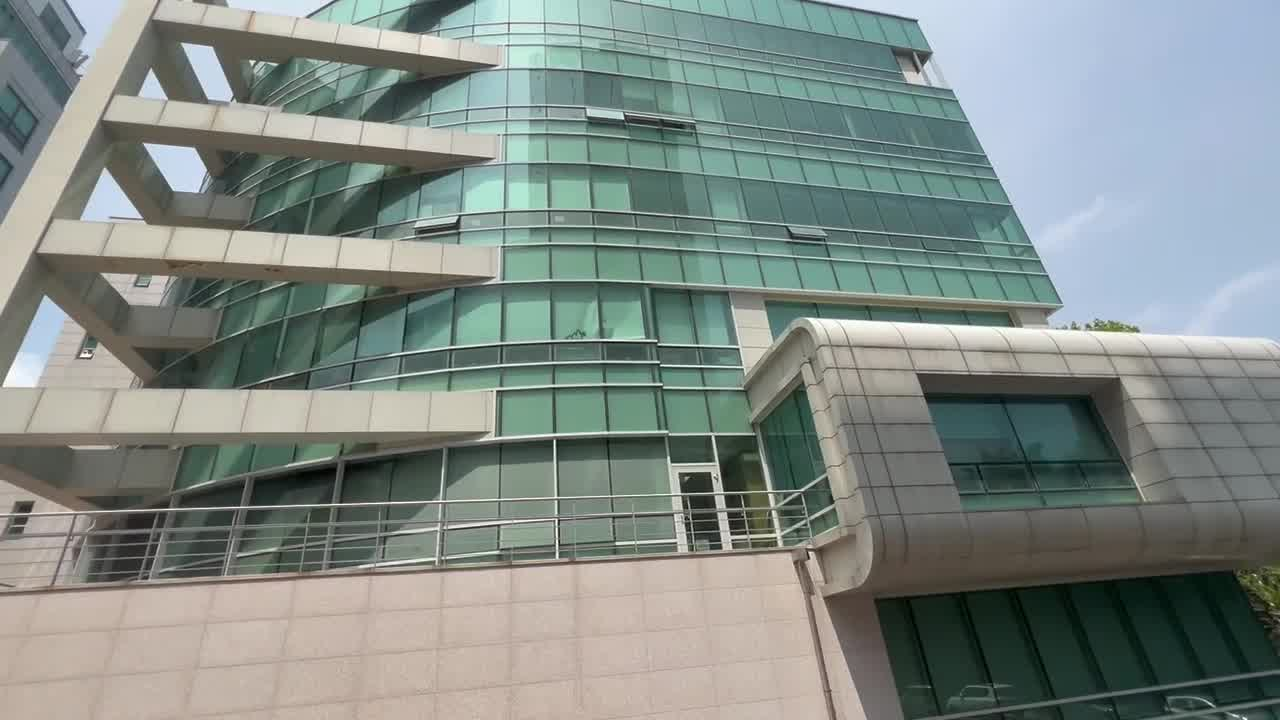high: (69, 12, 1280, 702)
